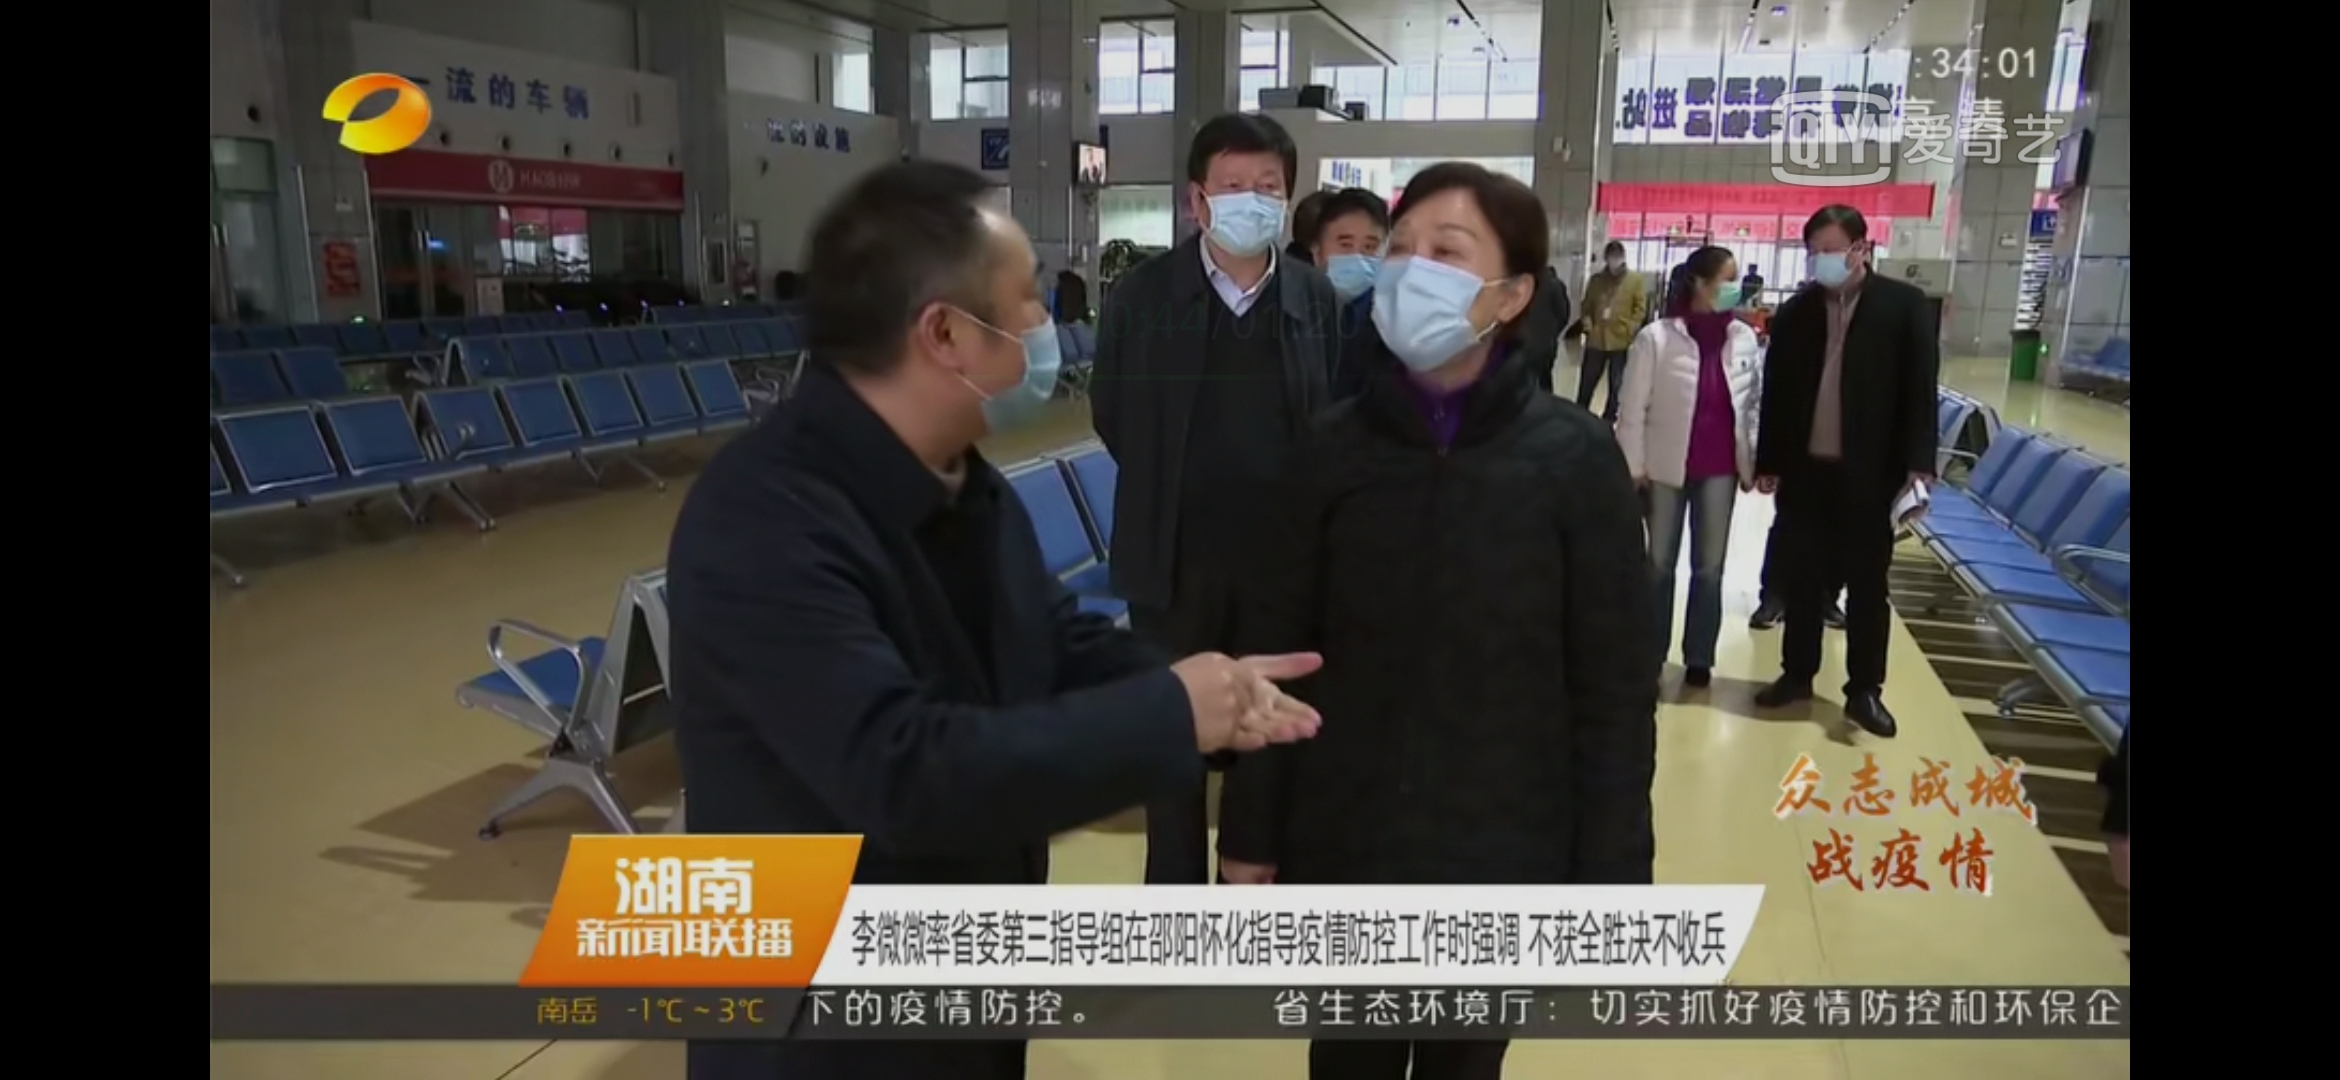correctlyWear: (1377, 212, 1537, 380), (913, 264, 1066, 440), (1194, 164, 1289, 261), (1318, 219, 1386, 291), (1806, 230, 1867, 288), (1695, 264, 1742, 313), (1601, 248, 1628, 269)
